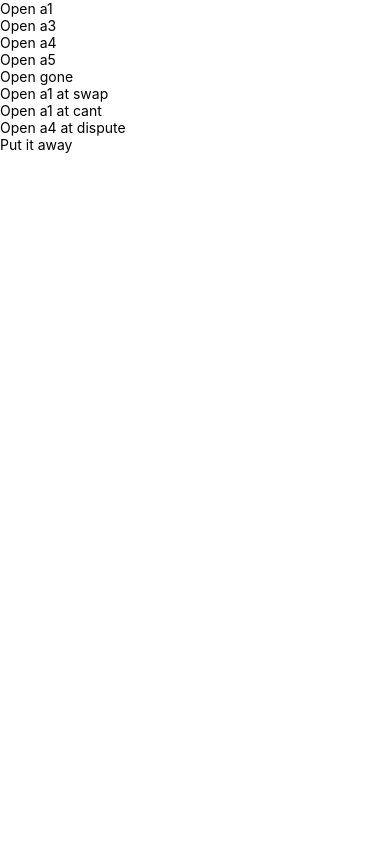
Test case: Why? › says why the John is yours and what slipping would cost, with how it added up folded away
Click the button "Open a1" at (26, 8), box [0,0,389,17]
(page scrolled)
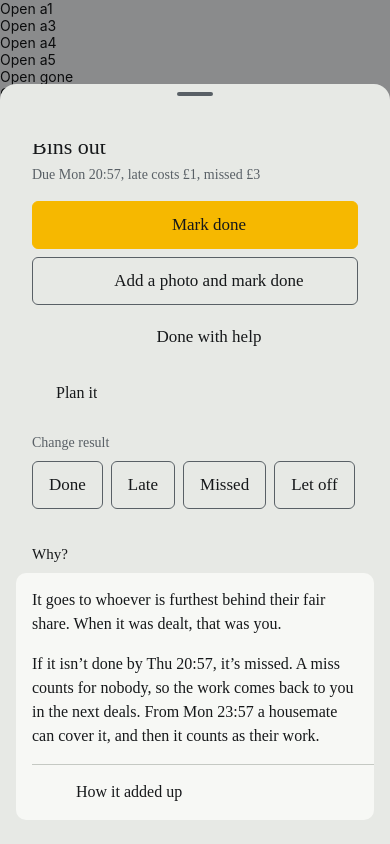
Result: the heading "Why?" is shown at [32,542,68,564]
Click the button with test id "why-adds-up" at (129, 792), box [16,764,374,820]
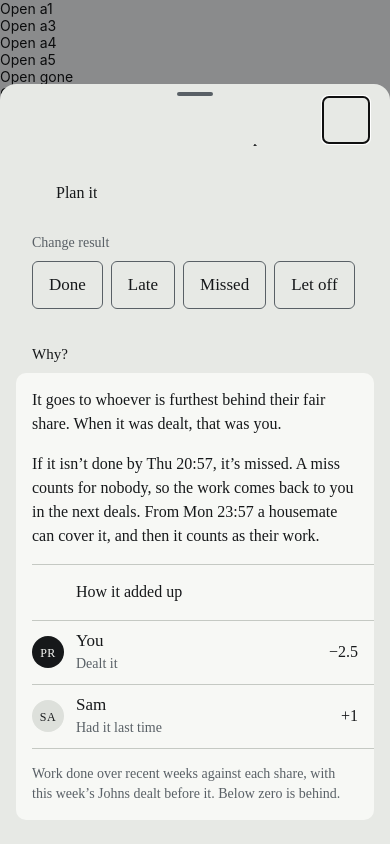
Result: the number of elements with test id "why-row" is 2 at [16,620,374,684]; [16,684,374,748]
Result: the element with test id "why-row" reads "PR You Dealt it −2.5" at [16,620,374,684]
Result: the element with test id "why-row" reads "SA Sam Had it last time +1" at [16,684,374,748]
